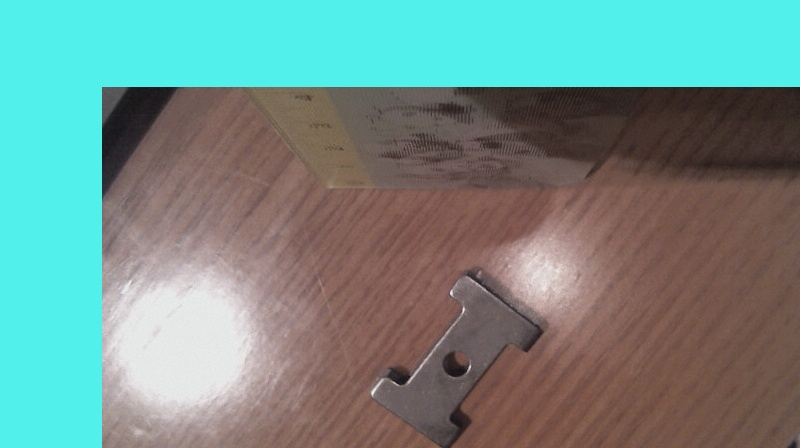O002: (366, 267, 546, 447)
